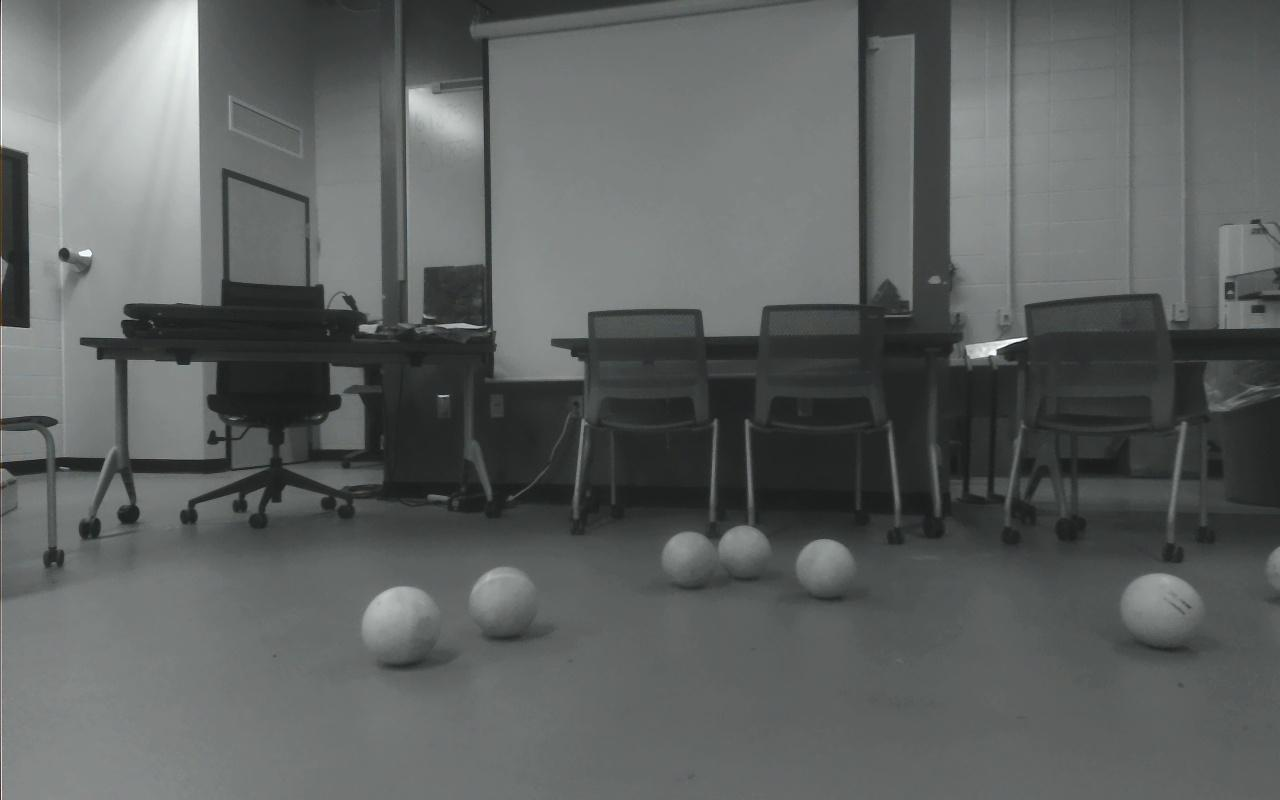Fuel: (1120, 572, 1204, 649), (361, 585, 440, 666), (470, 566, 539, 638), (796, 538, 856, 598), (662, 530, 717, 588), (718, 525, 772, 580), (1265, 545, 1280, 597)
